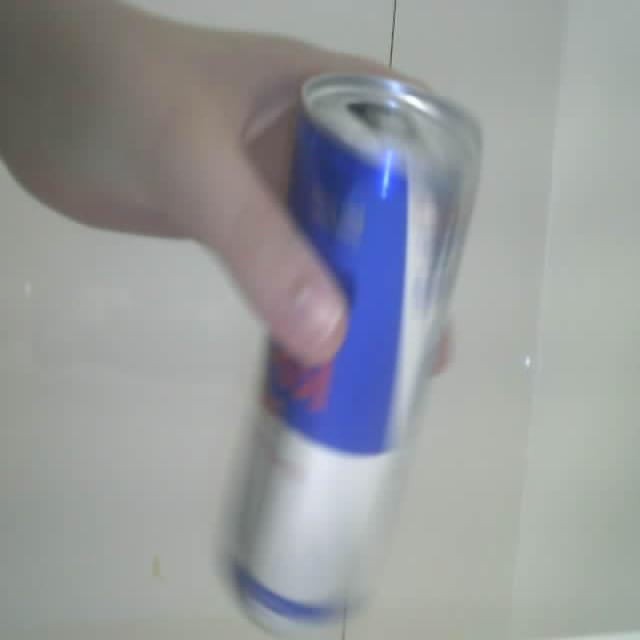redbull can: (227, 75, 480, 631)
